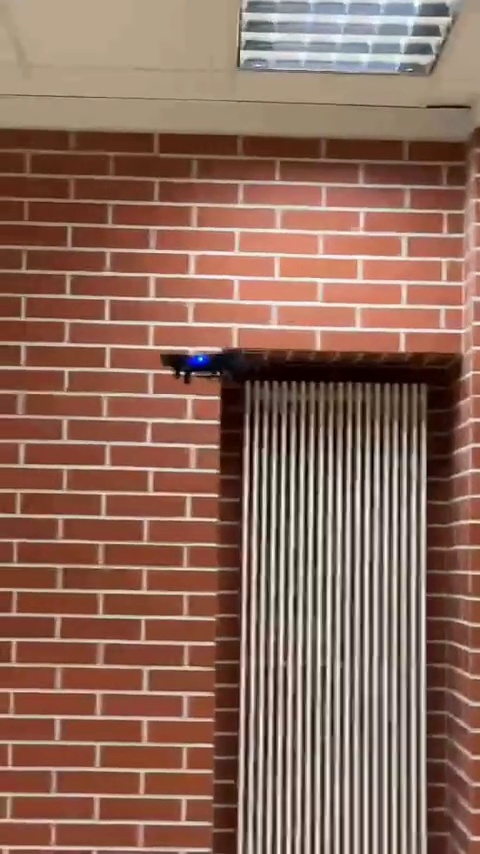drone: (156, 351, 249, 384)
